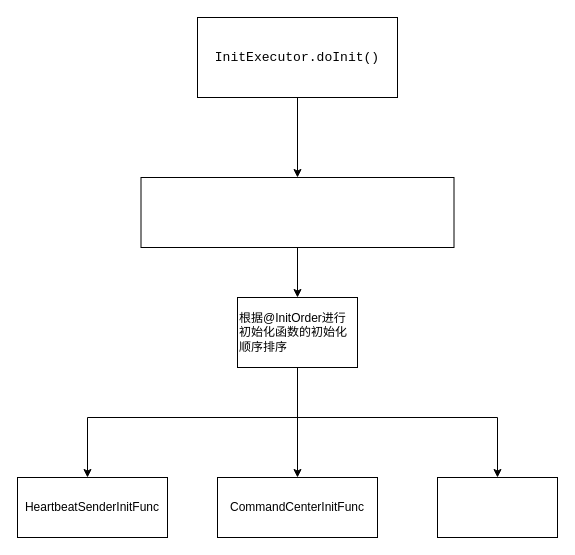
Image size: 575x555. Some labels were removed from this diagram. Here are the shapes that lost their labels. From the top down, the centre of each, then its label:
pixel 297 212: 通过SPI加载InitFunc SpiLoader.of(InitFunc.class).loadInstanceListSorted()
pixel 497 507: MetricCallbackInit
